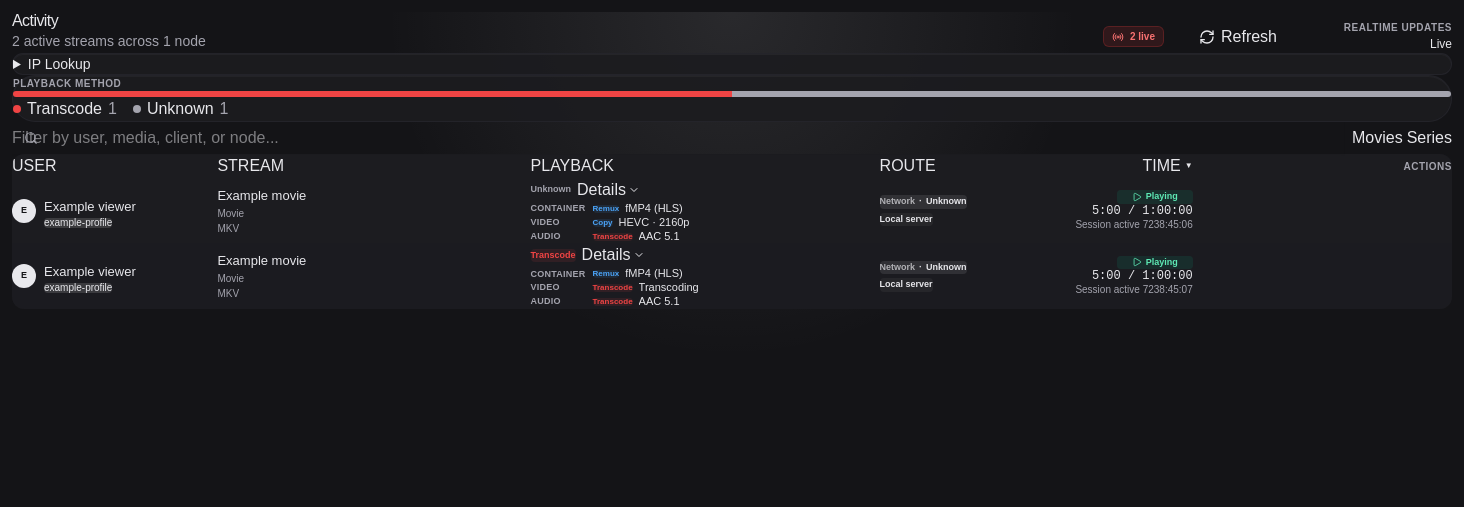
activity playback scopes › keeps unknown scopes unknown and puts encoder and tone-map modes in expanded details
Expected: the text "HW QSV" is not shown
Click the 2nd button "Details" at (613, 255), box x1=582 y1=243 x2=644 y2=267
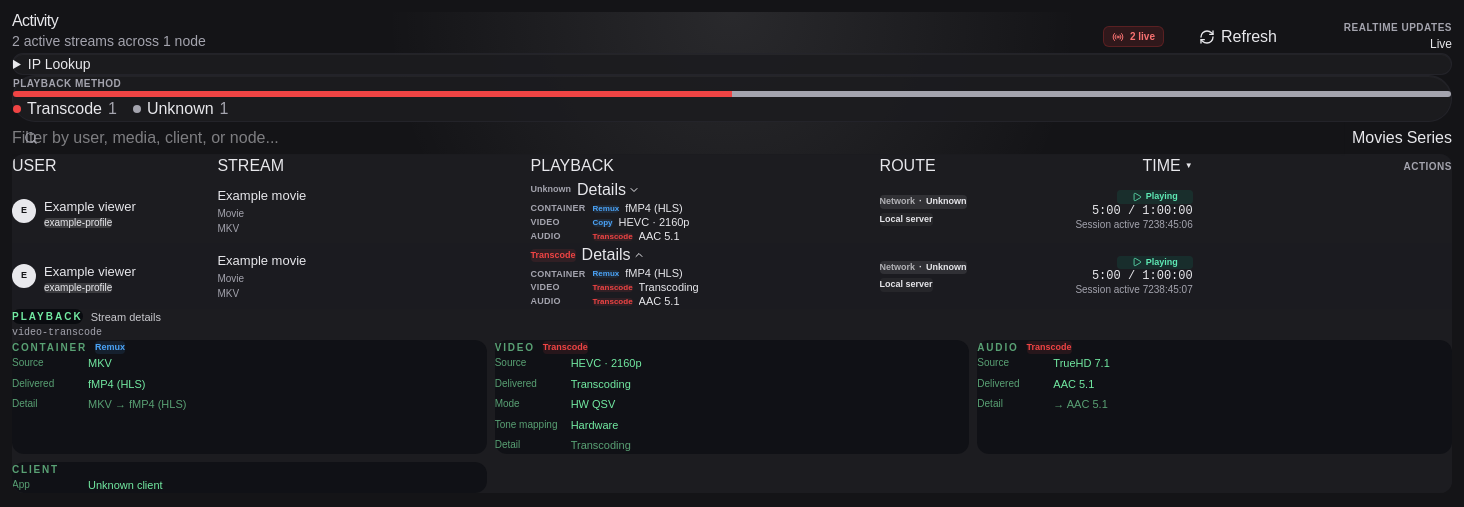
Expected: the text "HW QSV" is shown, x1=571 y1=398 x2=615 y2=410
Expected: the text "Hardware" is shown, x1=571 y1=419 x2=618 y2=431
